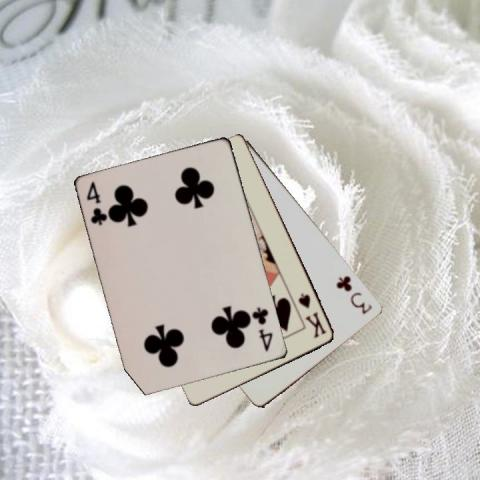3c: (333, 273, 374, 315)
4c: (250, 304, 275, 353), (84, 178, 109, 226)
Ks: (295, 290, 328, 339)
